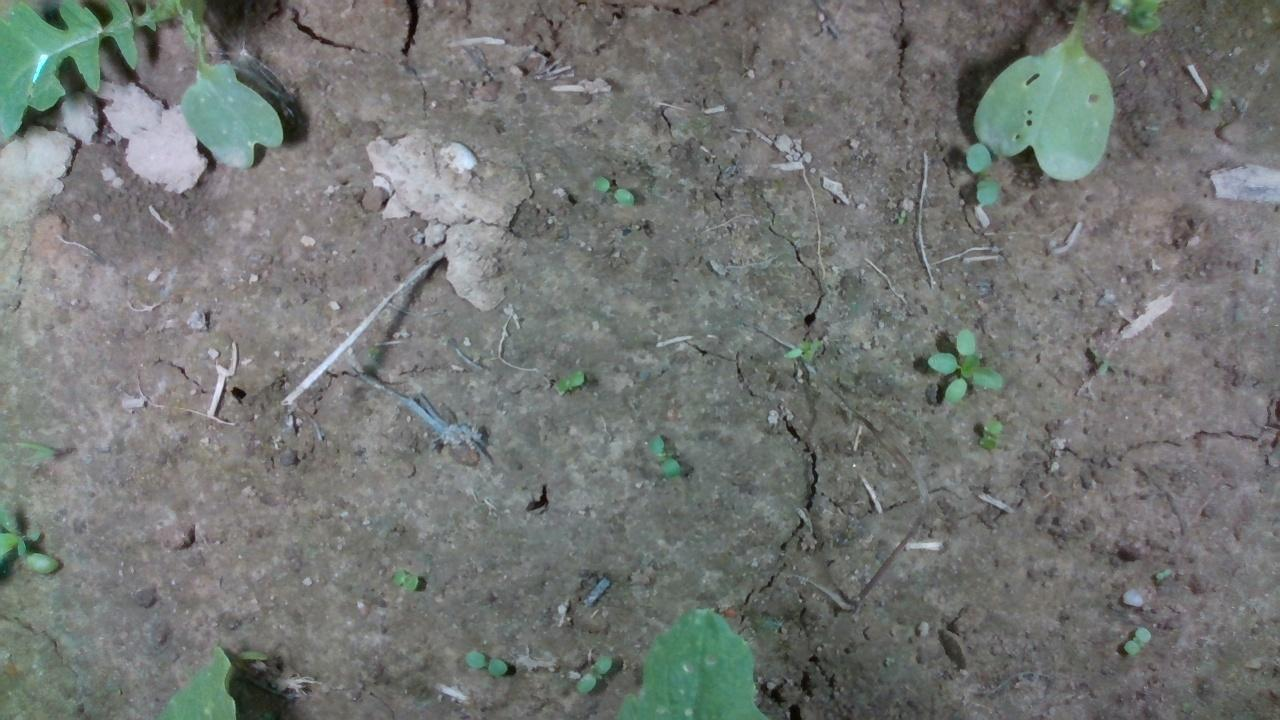weed: (575, 653, 613, 695), (589, 175, 635, 207), (463, 649, 508, 675), (1120, 624, 1150, 656), (977, 417, 1002, 451), (1206, 85, 1222, 111), (1153, 565, 1172, 582)
